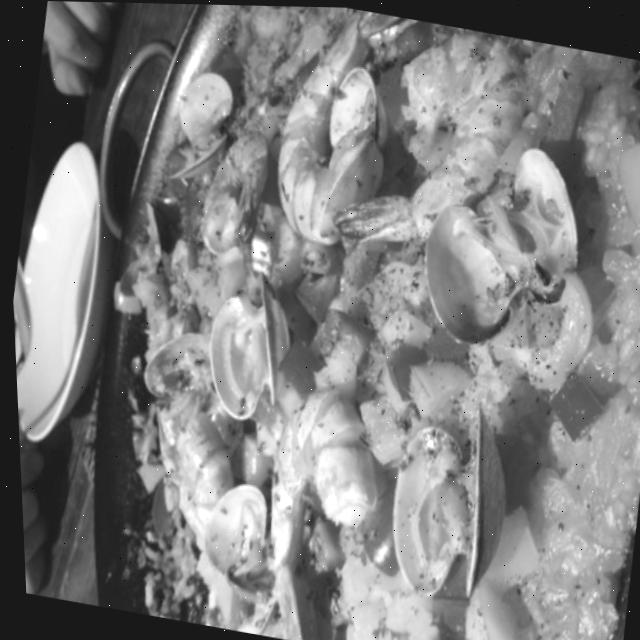熟制海鲜: (355, 279, 631, 640)
